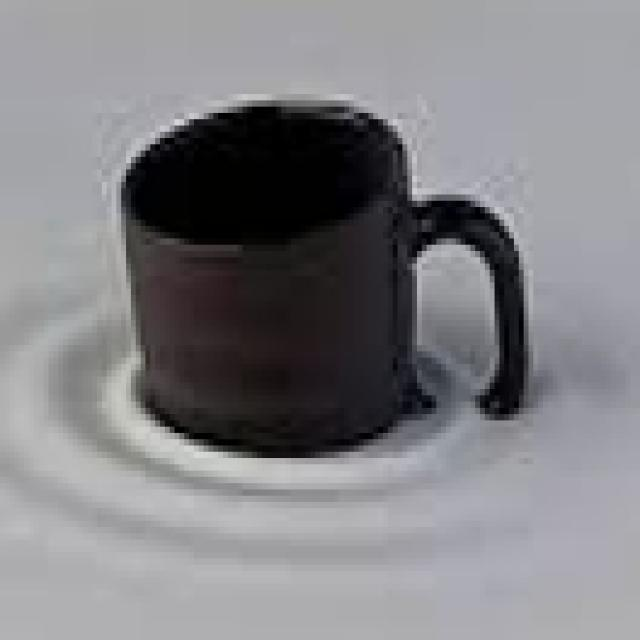taza: (107, 97, 553, 450)
